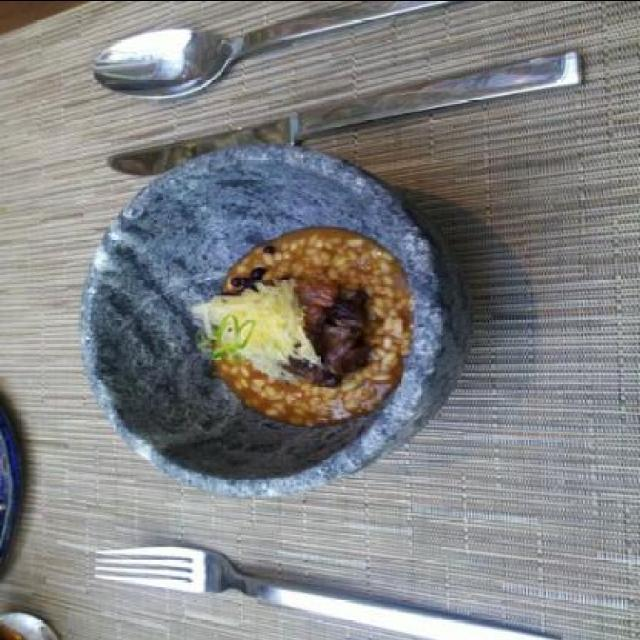Risotto: (201, 217, 405, 435)
